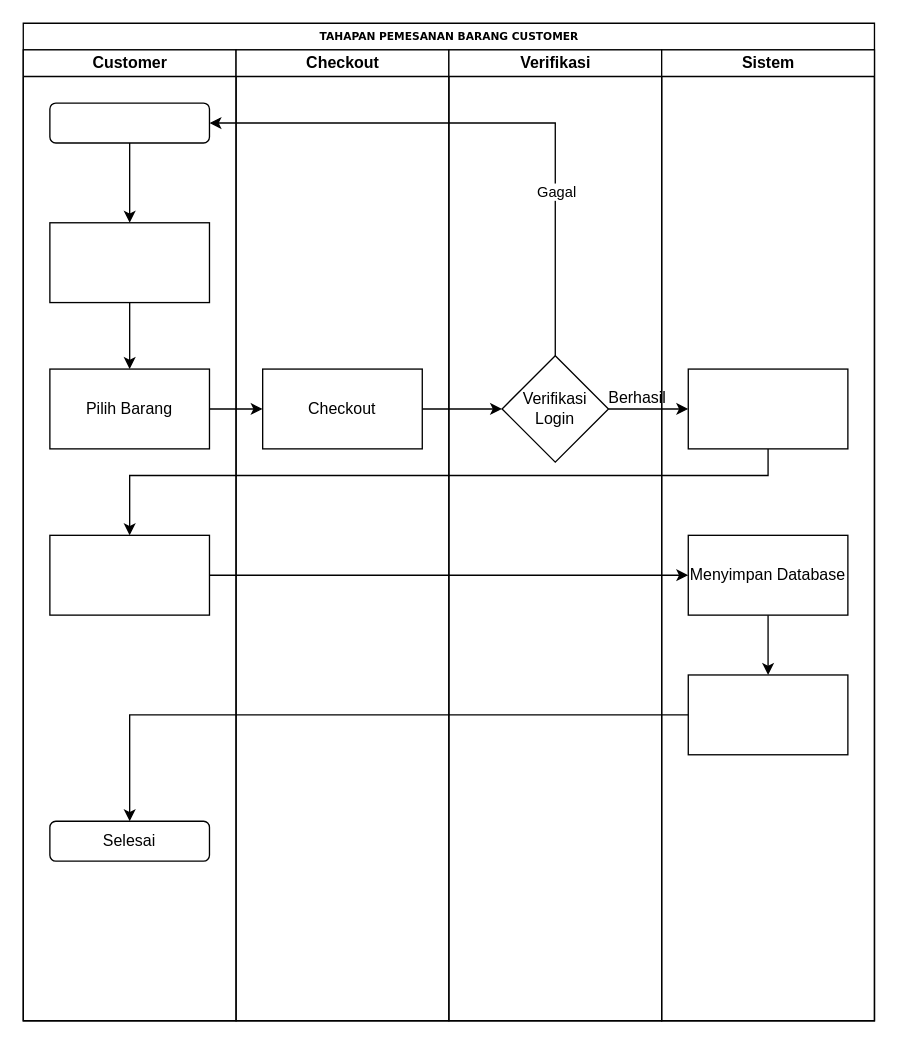
The diagram is 898 pixels wide and 1044 high, and some of its shapes have lost their labels. The shapes that lost their labels are listed below. From the top down, each one's box as (x1, y1, x2, y2) in pixels, then its label:
(49, 102, 209, 143): Mulai
(49, 221, 209, 303): Login
(687, 368, 848, 449): Menampilkan Halaman Checkout
(49, 534, 209, 615): Mengisi Informasi Data Checkout
(687, 674, 848, 755): Menampilkan Info Pembayaran
